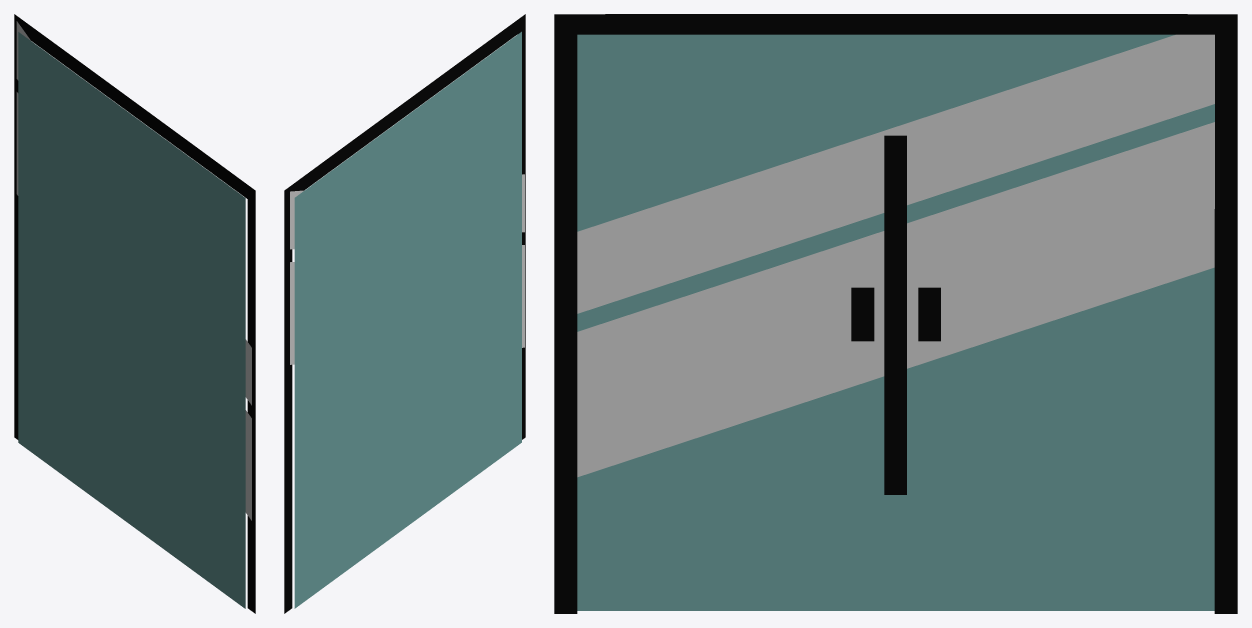
The model's file is tippys_door_1fbx.fbx.
3 views of the same model, side by side, from view 1: azimuth 30°, elevation 25°; view 2: azimuth 150°, elevation 25°; view 3: azimuth 270°, elevation 25° (orthographic). The views are drawn at different scales.
Visible parts, largest first — view 1: Plane.007; view 2: Plane.007; view 3: Plane.007.
Part boxes in pixels (left/top/right/bottom): Plane.007: left=14, top=14, right=255, bottom=613; Plane.007: left=284, top=14, right=525, bottom=613; Plane.007: left=554, top=14, right=1237, bottom=613.
Size of the model in its own units: 1.89 by 200 by 206.
